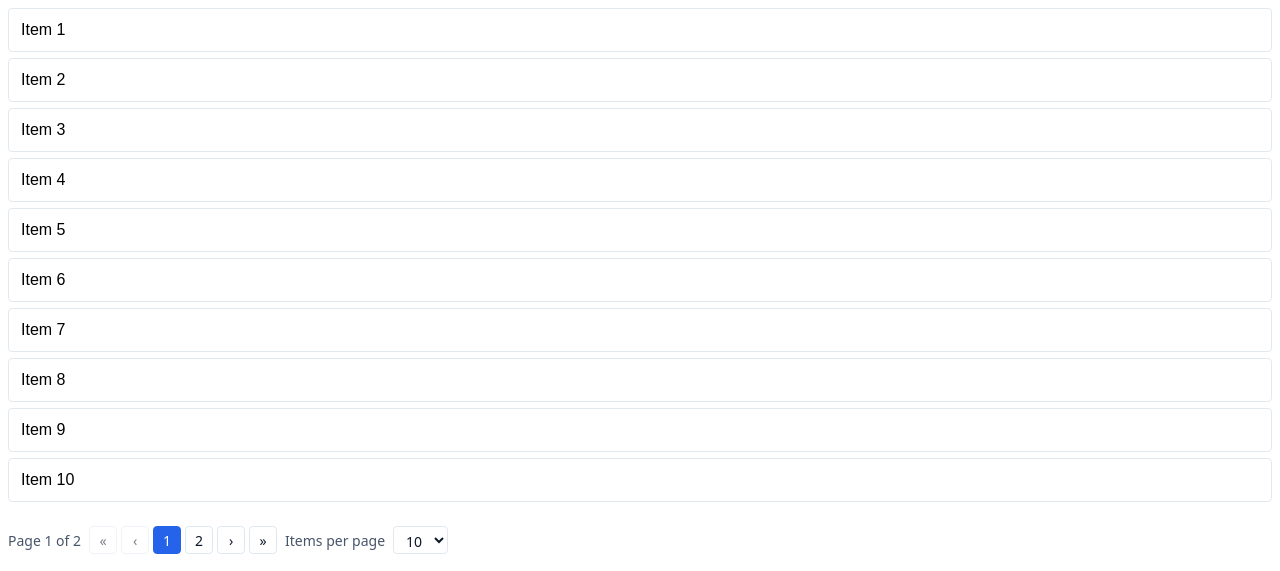
Test: DataList › resets to page 1 when page size changes
Click the button "2" at (199, 540), box [185,526,213,554]
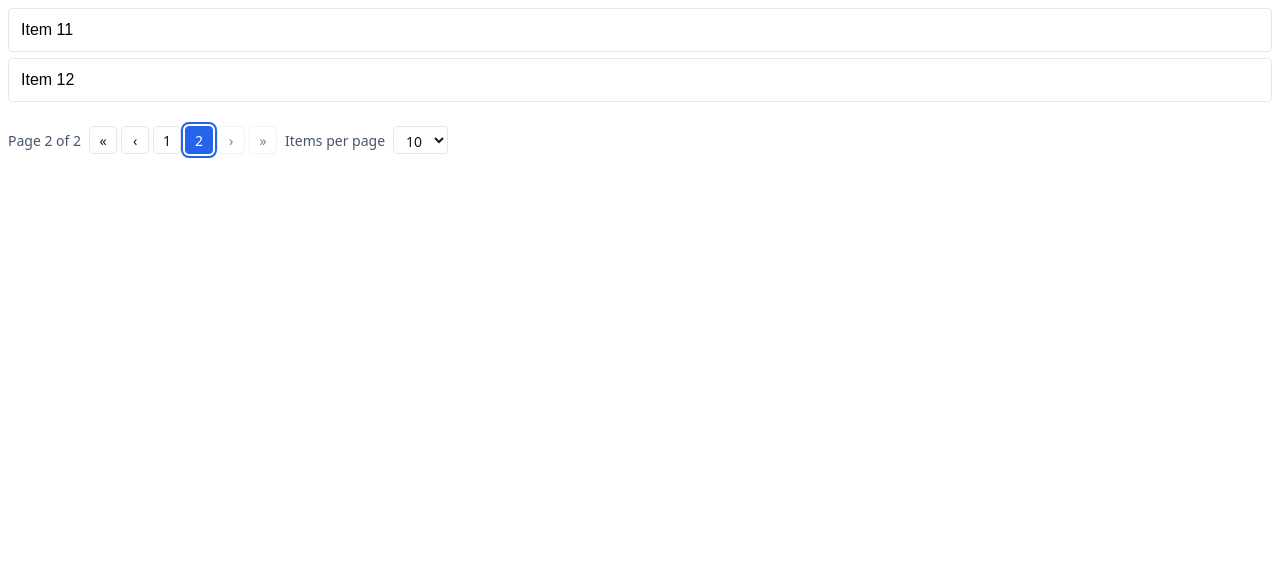
Select "5" in the dropdown labelled "Items per page" at (421, 140), box [393,126,448,154]
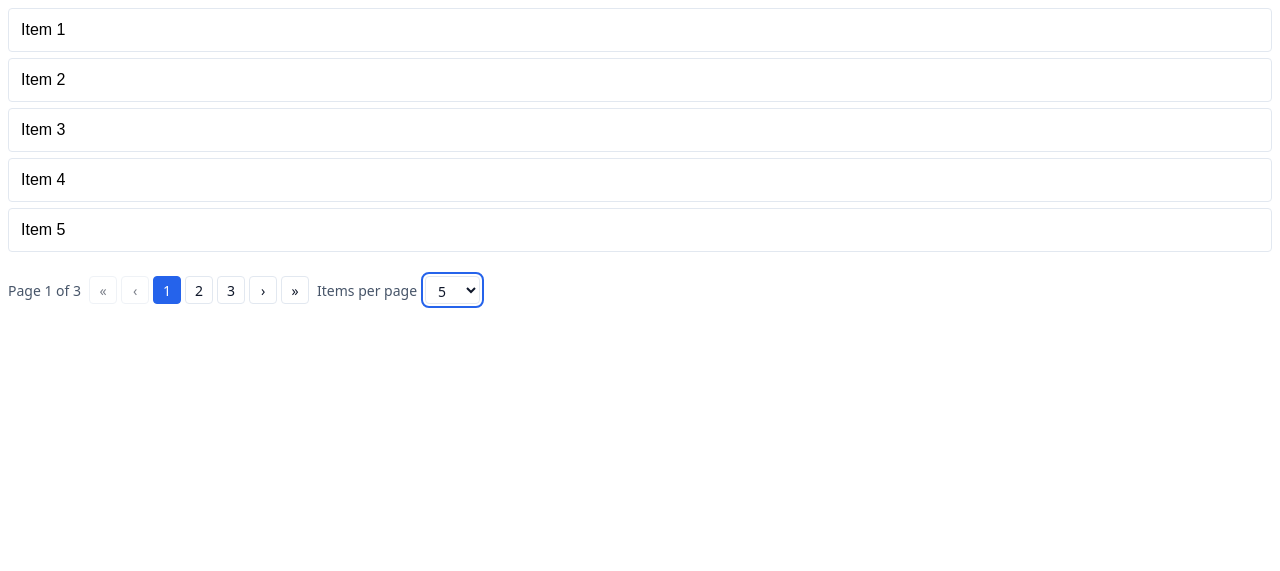
Expected: the text "Page 1 of 3" is shown, [8,280,81,300]
Expected: the number of elements with test id "datalist-item" is 5, [21,21,66,38]; [21,71,66,88]; [21,121,66,138]; [21,171,66,188]; [21,221,66,238]
